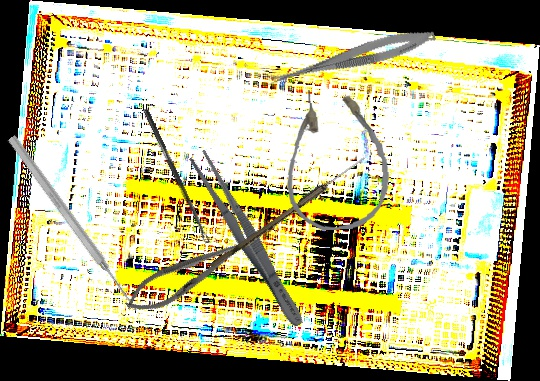Cannula: (279, 85, 394, 233)
Dressing Forceps: (185, 147, 311, 332)
Micro Scissor: (264, 22, 438, 96)
Needle Holder: (119, 224, 262, 323)
Pusher: (5, 133, 142, 315)
Surgical Spoon: (209, 153, 367, 272), (142, 107, 210, 245)
